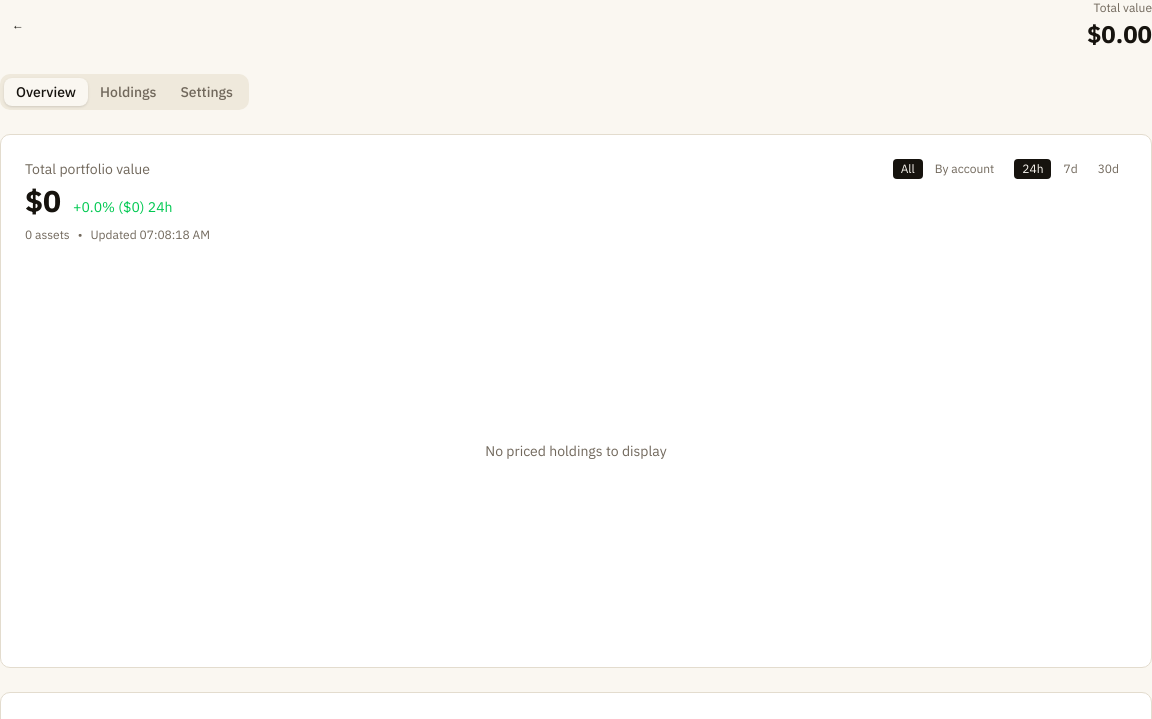
it: every route renders on an empty instance › /portfolios/[id]
This screenshot has width=1152, height=719.
Click the tab "Holdings".
click(128, 92)  # box [88,78,168,106]
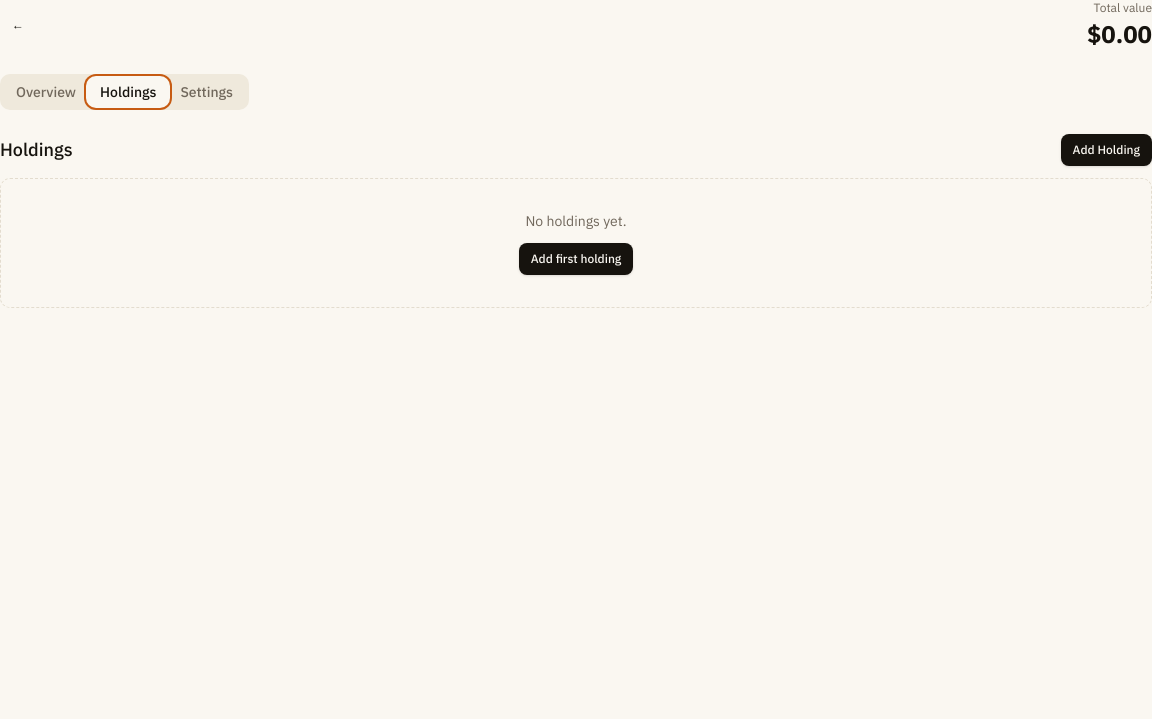
Click the button "Add Holding".
click(1106, 150)  # box [1061,134,1151,166]
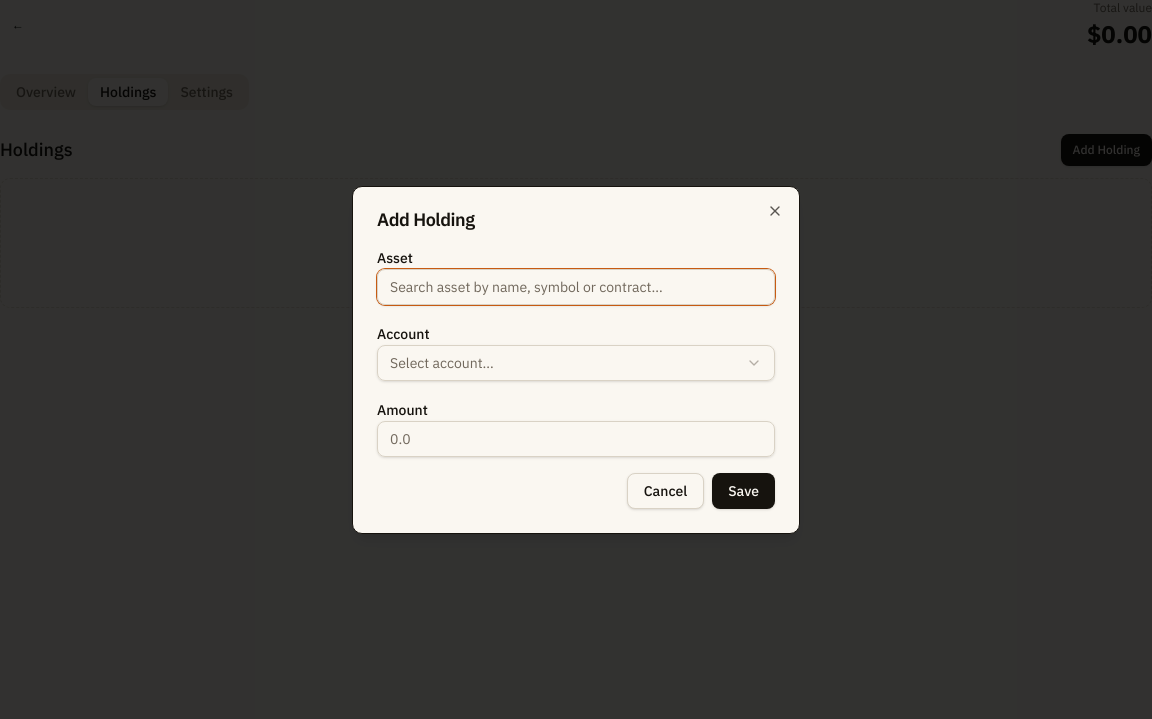
Expected: the dialog is shown, [352,186,800,534]
Press Escape
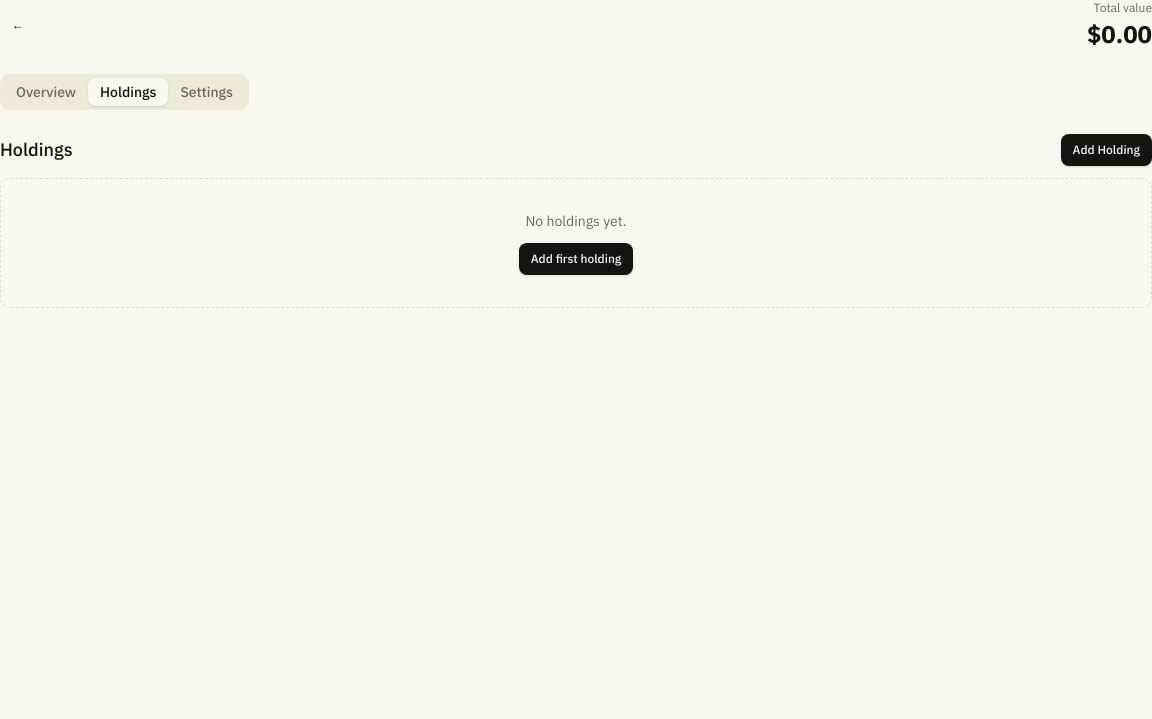
Click the tab "Settings".
click(207, 92)  # box [168,78,245,106]
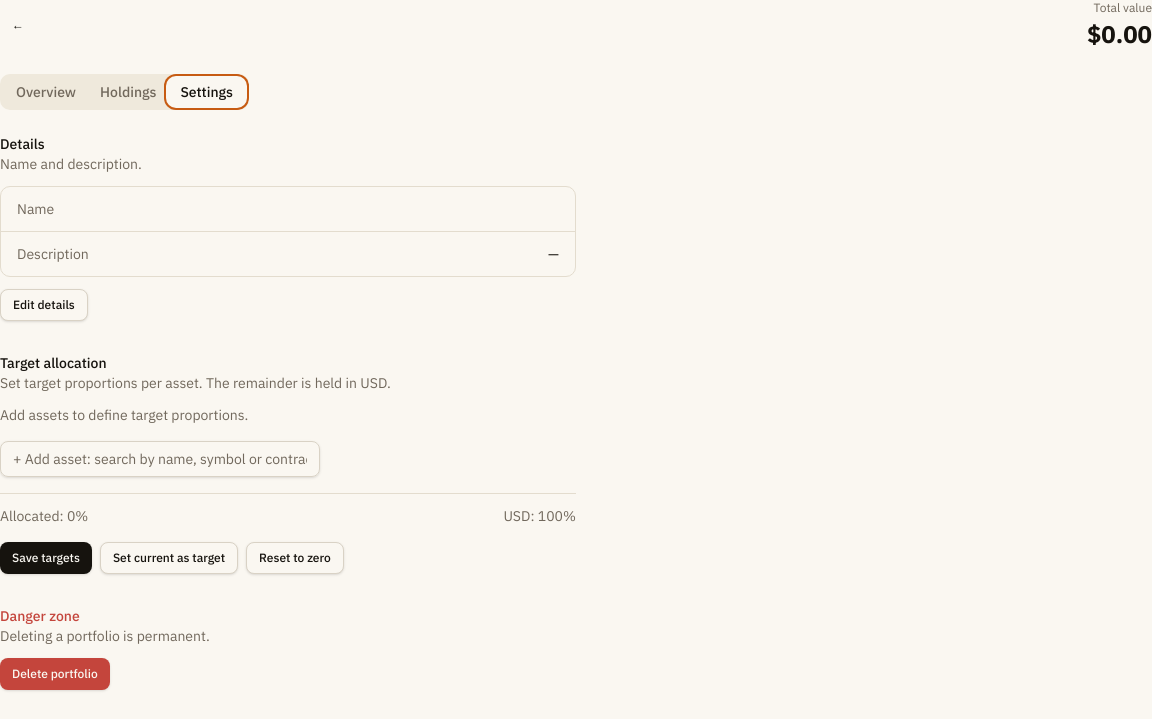
Expected: the heading "Target allocation" is shown, [0,354,106,372]
